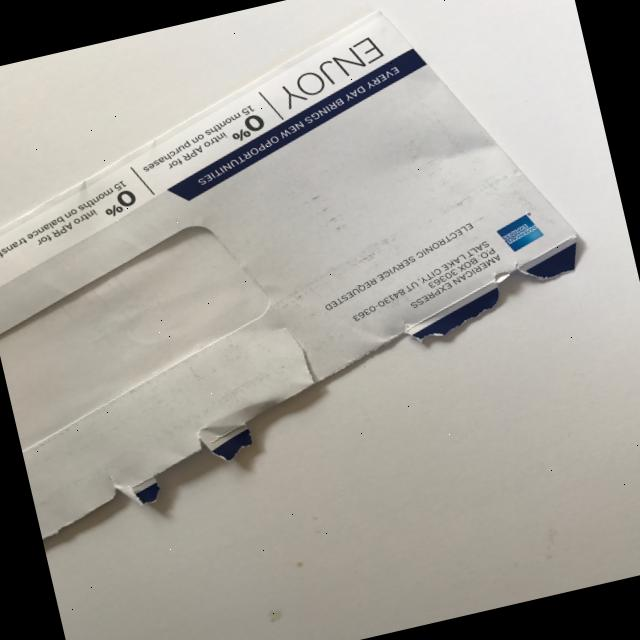paper: (0, 0, 618, 538)
